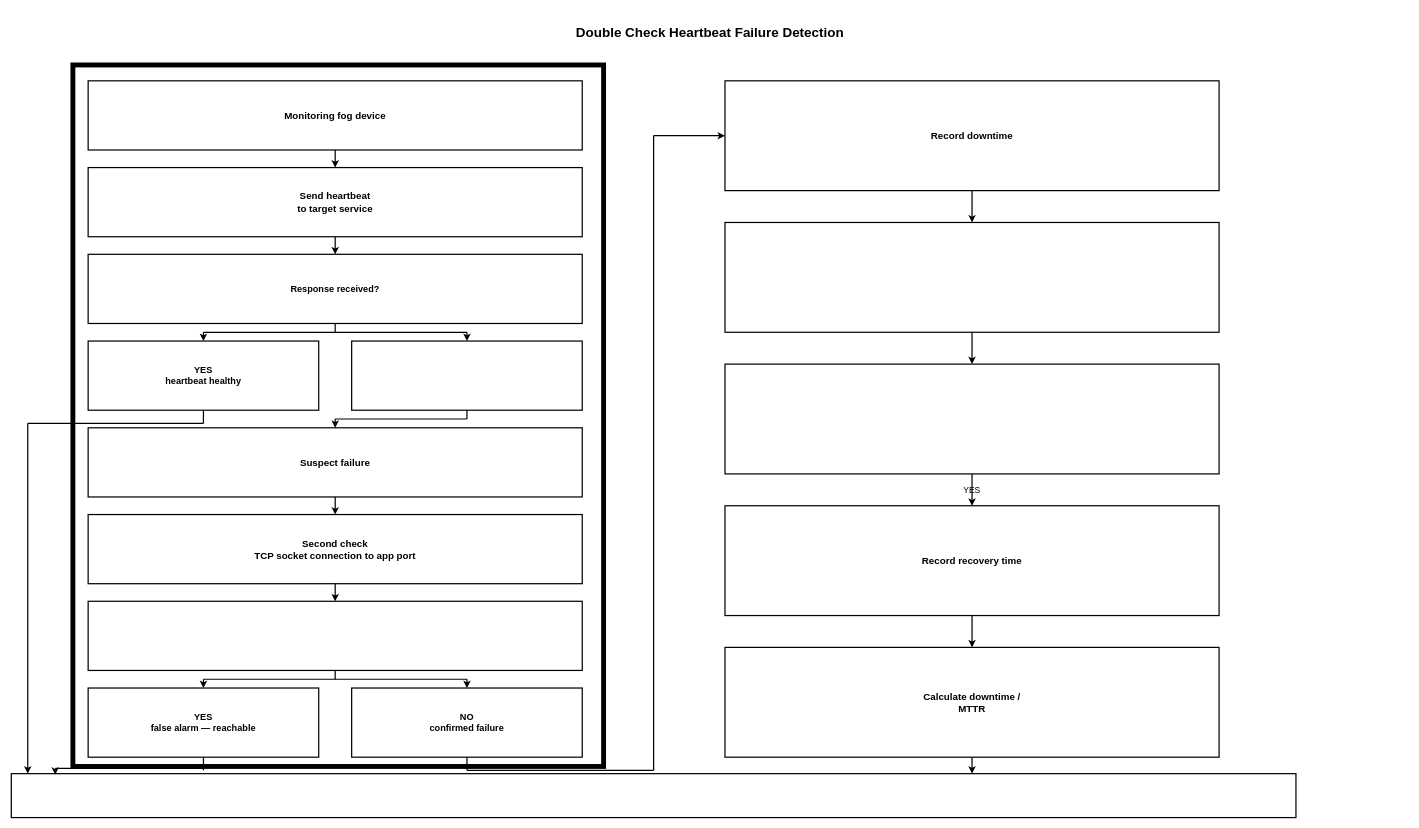
Image size: 1419x828. Some labels were removed from this diagram. Here are the shapes that lost their labels. From the top down, the centre of each, then its label:
(x=971, y=277): Continue checking for service recovery
(x=467, y=375): NO investigate
(x=971, y=418): Response returns?
(x=335, y=635): Connection works?
(x=653, y=795): RETURN TO NORMAL HEARTBEAT MONITORING
